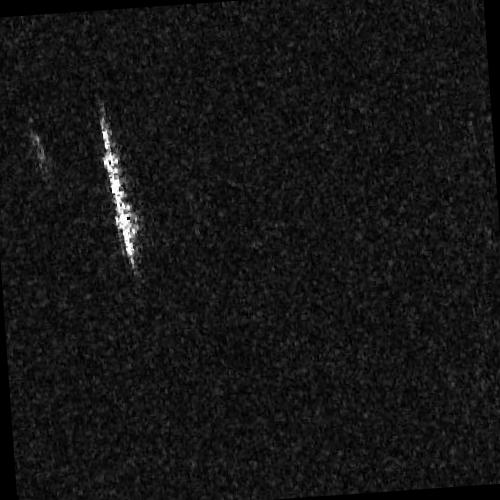ship: (96, 108, 137, 270)
